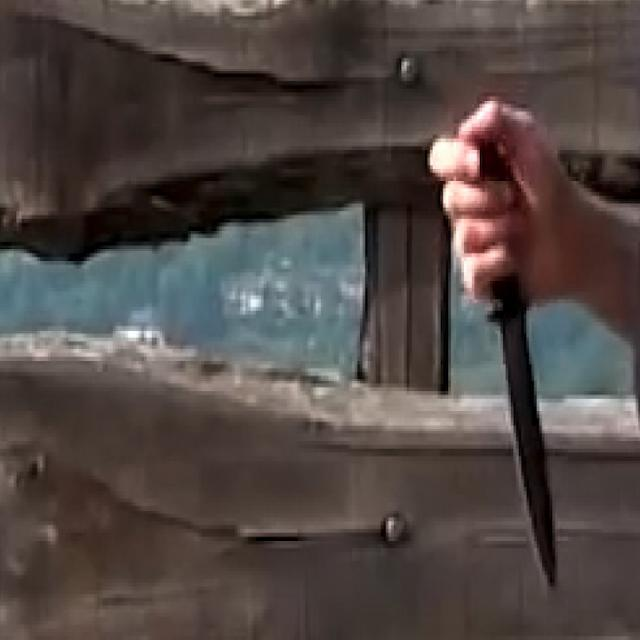suspicion: (422, 87, 636, 597), (479, 140, 559, 592)
